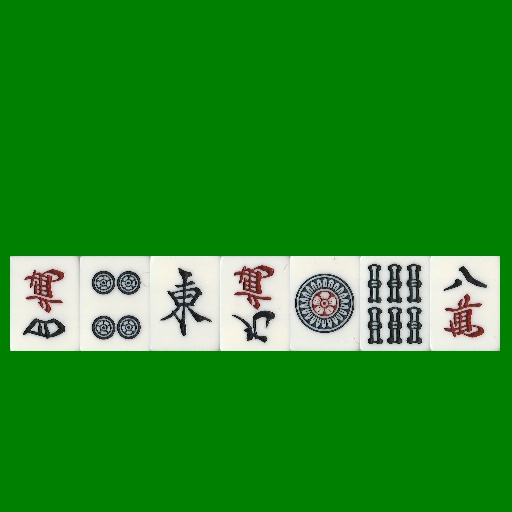1p: (290, 256, 360, 351)
4m: (10, 256, 80, 351)
4p: (80, 256, 150, 351)
6s: (360, 256, 430, 351)
8m: (430, 256, 500, 351)
9m: (220, 256, 290, 351)
east: (150, 256, 220, 351)
